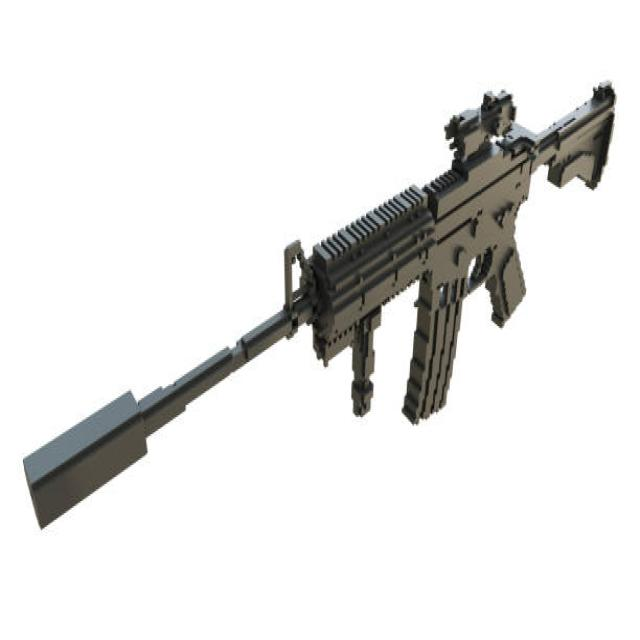rifle: (11, 58, 623, 537)
